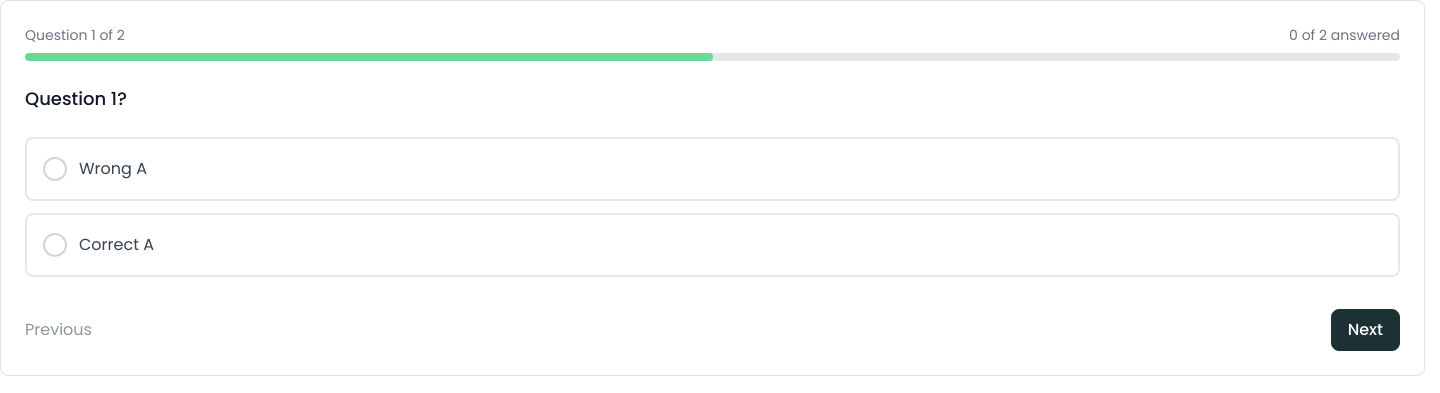
Test: Quiz › Next button advances to next question
Step 1. Click the button "Next" → (1365, 330), box [1331,309,1400,351]
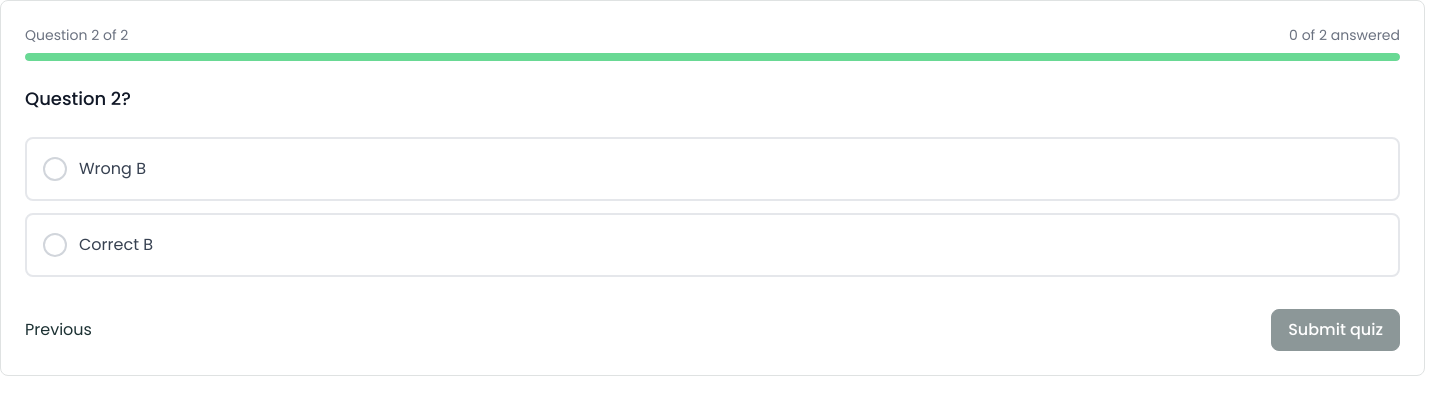
Expected: the text "Question 2 of 2" is shown, [25,25,128,45]
